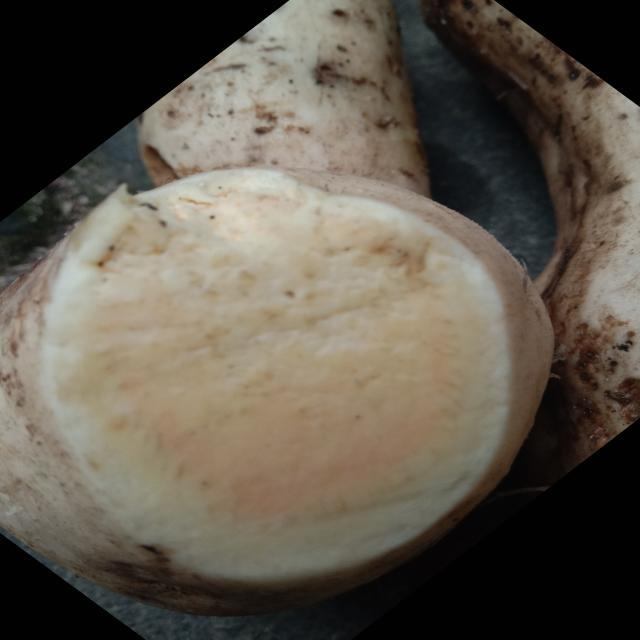Healthy Sweet Potato: (43, 169, 510, 579)
